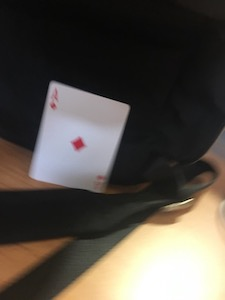AceOfDiamonds: (24, 76, 132, 196)
